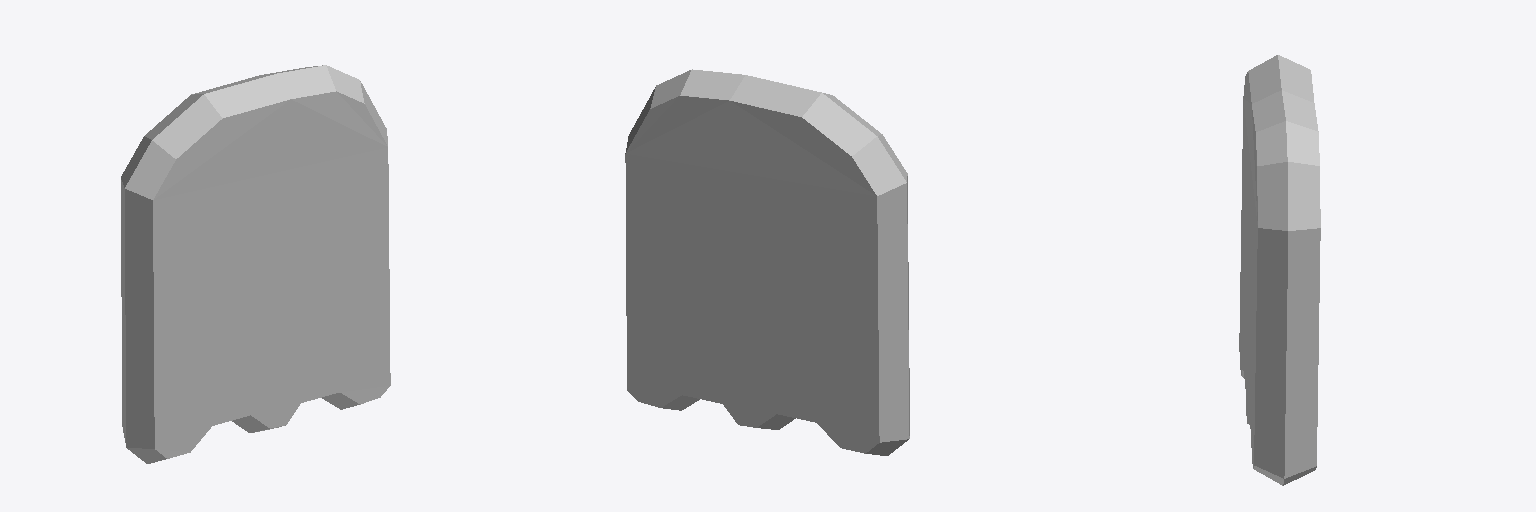
File: ghostv1.obj
The picture shows the model from 3 angles: view 1: azimuth 30°, elevation 25°; view 2: azimuth 150°, elevation 25°; view 3: azimuth 270°, elevation 25°; orthographic projection.
Parts seen in each view (by area): view 1: Cylinder; view 2: Cylinder; view 3: Cylinder.
Boxes of the visible parts, box(x1,y1,x2,y2) form: Cylinder: box(121, 65, 390, 463); Cylinder: box(625, 69, 909, 455); Cylinder: box(1239, 55, 1320, 485).
Bounding box in the file's own units: 0.4139 × 0.515 × 0.1076.